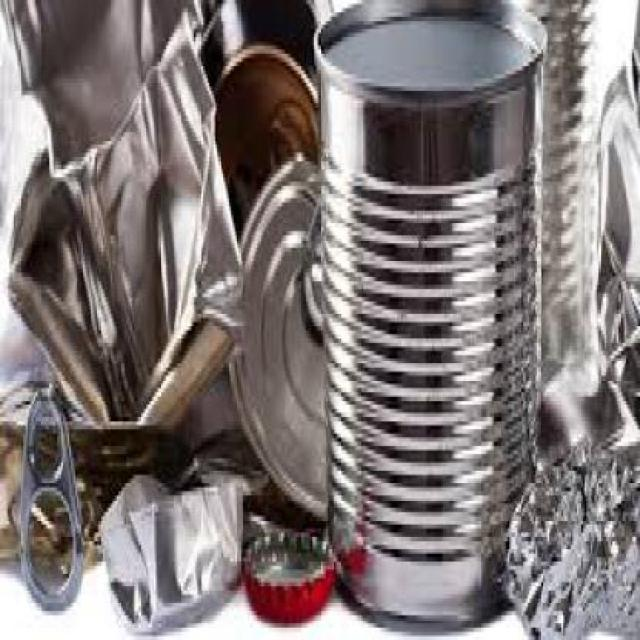METAL: (309, 0, 542, 637), (0, 0, 240, 423), (225, 149, 346, 520), (0, 380, 188, 578), (516, 1, 592, 384), (101, 449, 261, 628), (498, 433, 638, 636), (199, 0, 321, 228), (596, 0, 638, 402), (238, 520, 338, 615), (539, 359, 638, 450)
